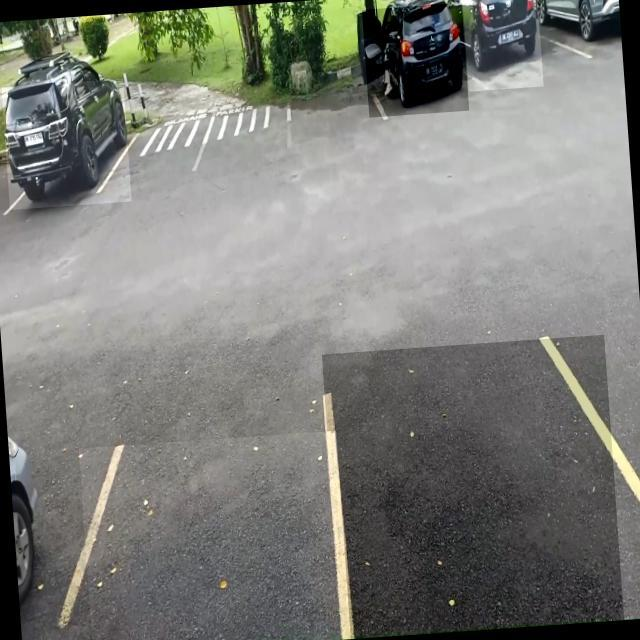empty: (322, 334, 624, 640), (78, 430, 350, 640)
occupied: (1, 78, 131, 210), (362, 2, 468, 117), (461, 0, 543, 91)
